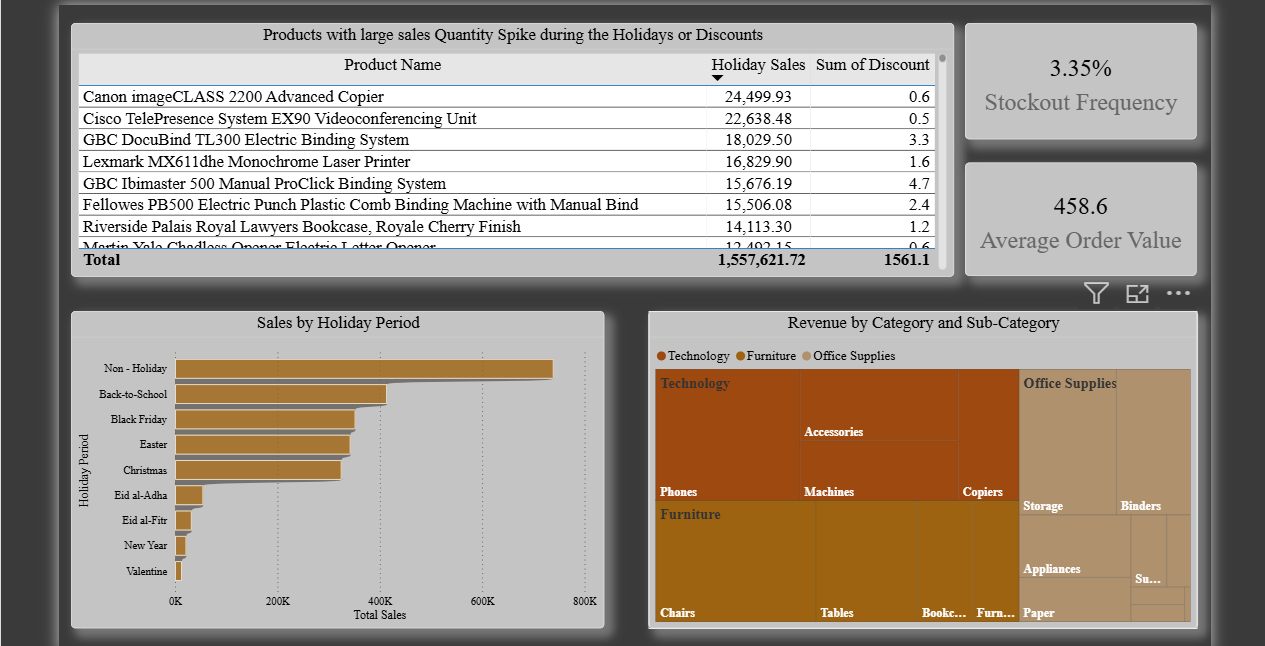

This screenshot's page, from the dashboard's own definition file:
{"tool":"powerbi","page":{"name":"Page 2","canvas":[1280,720],"ordinal":1},"visuals":[{"type":"barChart","title":"Sales by Holiday Period","fields":{"Category":["Sample - Superstore.Holiday Period"],"Y":["Sample - Superstore.Total Sales"]},"box":[13,340,592.6,353],"z":0},{"type":"tableEx","title":"Products with large sales Quantity Spike during the Holidays or Discounts","fields":{"Values":["Sample - Superstore.Product Name","Sample - Superstore.Holiday Sales","Sum(Sample - Superstore.Discount)"]},"box":[13,19.4,981.3,281.7],"z":1000},{"type":"treemap","title":"Revenue by Category and Sub-Category","fields":{"Group":["Sample - Superstore.Category"],"Details":["Sample - Superstore.Sub-Category"],"Values":["Sample - Superstore.Total Revenue"]},"box":[654.2,340,610.4,353],"z":2000},{"type":"card","fields":{"Values":["Sample - Superstore.Stockout Frequency"]},"box":[1007.2,19.4,257.5,129.5],"z":3000},{"type":"card","fields":{"Values":["Sample - Superstore.Average Order Value"]},"box":[1007.2,174.9,257.5,126.3],"z":4000}]}

Visuals, with their boxes on the page's 1280x720 design canvas (x1, y1, x2, y2). These are canvas units, not pixel positions in the 1265x646 screenshot, which may show the page scaled, cropped or inside an application window:
"Sales by Holiday Period" barChart: detection(13, 340, 606, 693)
"Products with large sales Quantity Spike during the Holidays or Discounts" tableEx: detection(13, 19, 994, 301)
"Revenue by Category and Sub-Category" treemap: detection(654, 340, 1265, 693)
card - Sample - Superstore.Stockout Frequency: detection(1007, 19, 1265, 149)
card - Sample - Superstore.Average Order Value: detection(1007, 175, 1265, 301)
